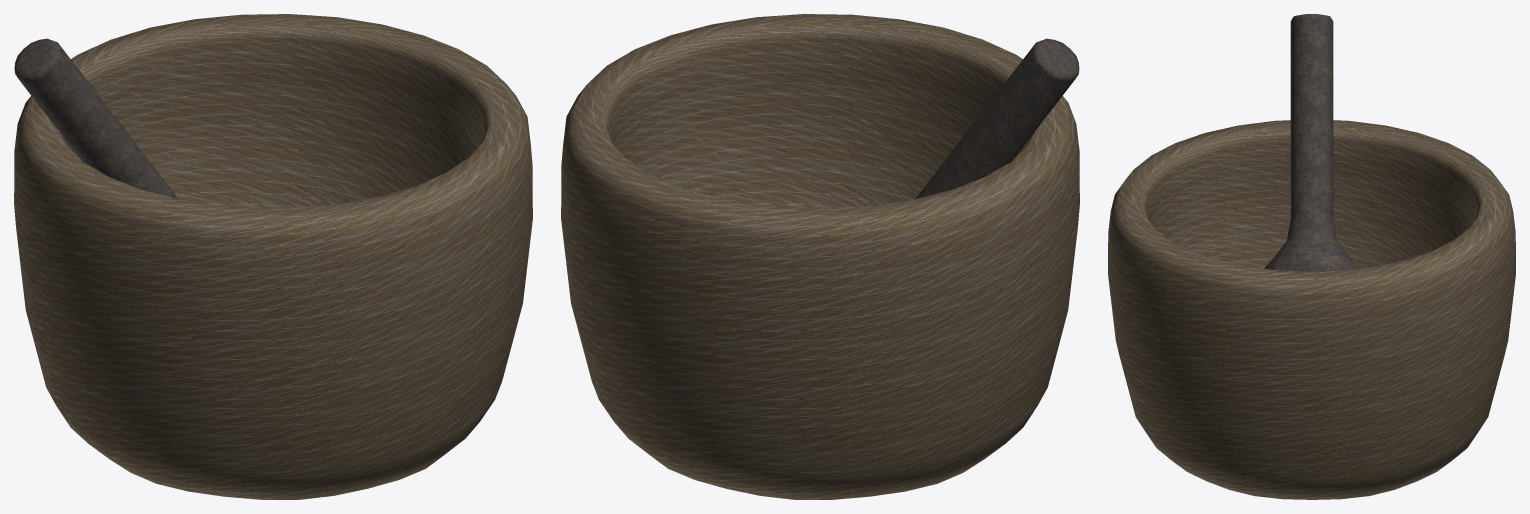
The model's file is PaintingPot.fbx.
3 views of the same model, side by side, from view 1: azimuth 30°, elevation 25°; view 2: azimuth 150°, elevation 25°; view 3: azimuth 270°, elevation 25° (orthographic). The views are drawn at different scales.
Parts seen in each view (by area): view 1: Pot, Squeezer; view 2: Pot, Squeezer; view 3: Pot, Squeezer.
Part boxes in pixels (<box>): Pot: <box>14,14,532,499</box>; Squeezer: <box>14,38,178,199</box>; Pot: <box>561,14,1079,499</box>; Squeezer: <box>915,38,1079,199</box>; Pot: <box>1108,120,1515,499</box>; Squeezer: <box>1264,14,1359,271</box>.
Size of the model in its own units: 6.1 by 5.3 by 5.72.
